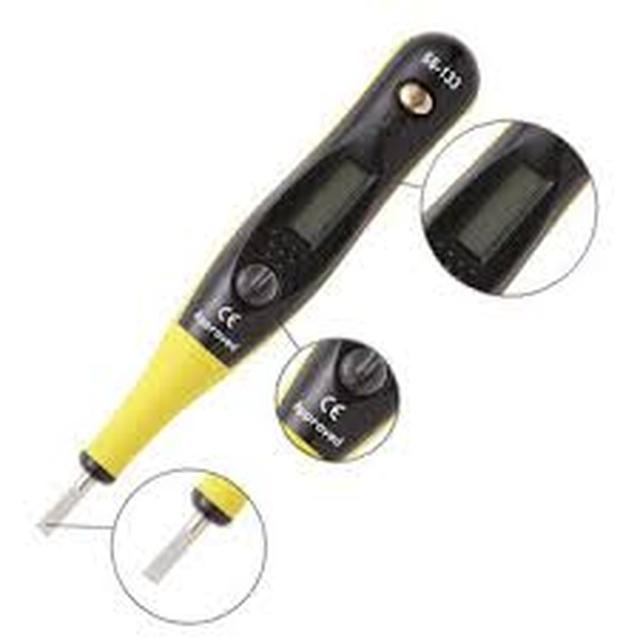pen: (13, 19, 516, 581)
